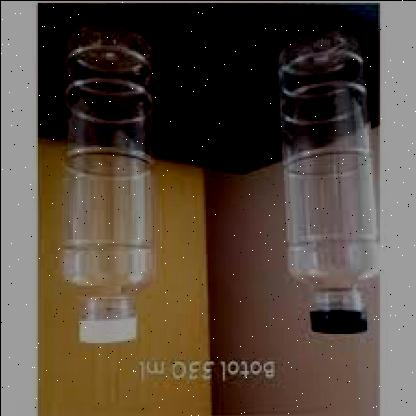Plastic Bottle: (276, 28, 380, 334), (60, 22, 157, 344)
